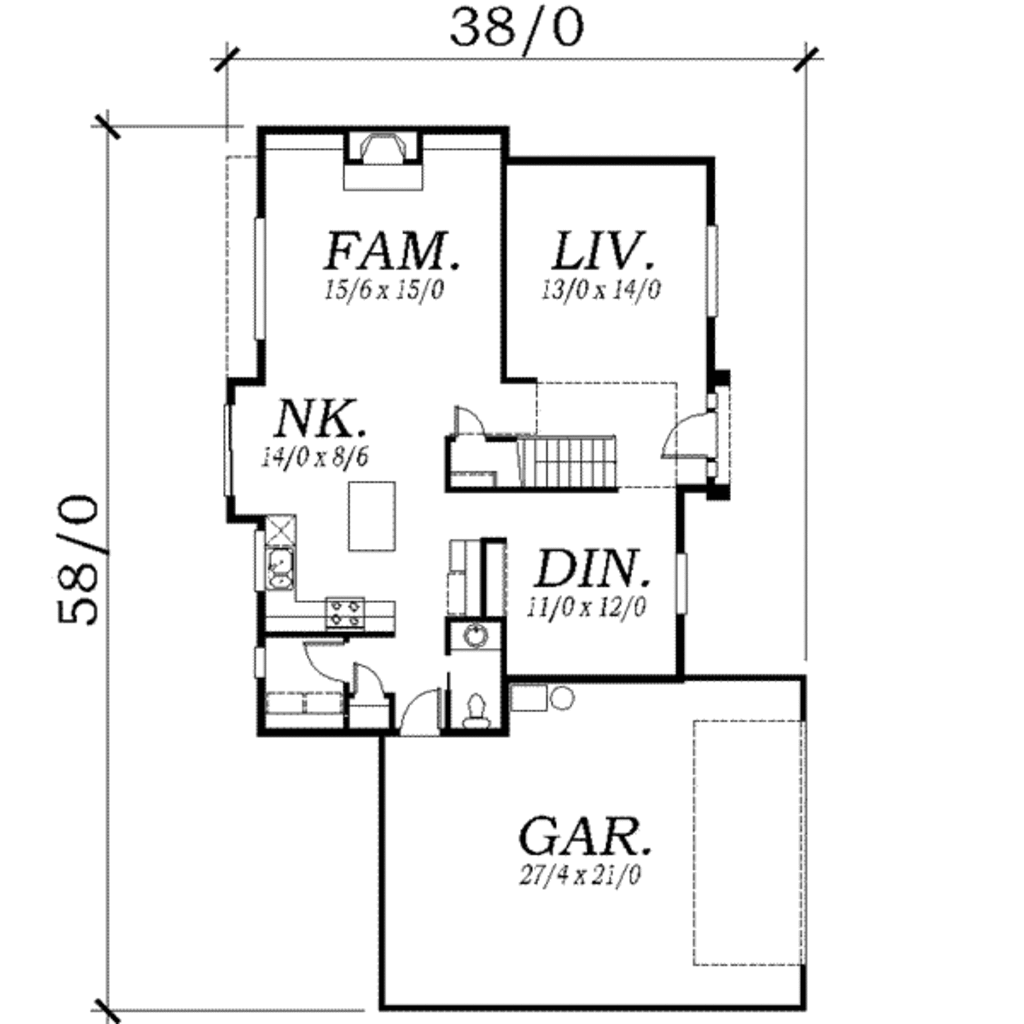door: (658, 411, 720, 468), (397, 689, 447, 741), (302, 640, 344, 684), (351, 654, 389, 699), (449, 399, 485, 436)
large_sink: (452, 683, 495, 730)
small_sink: (443, 618, 504, 656)
stairs: (442, 436, 618, 497)
twin_sink: (268, 544, 301, 601)
window: (251, 215, 272, 345), (701, 223, 721, 318), (667, 550, 693, 619)
